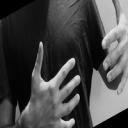hand: (16, 40, 81, 127), (100, 0, 127, 95)
